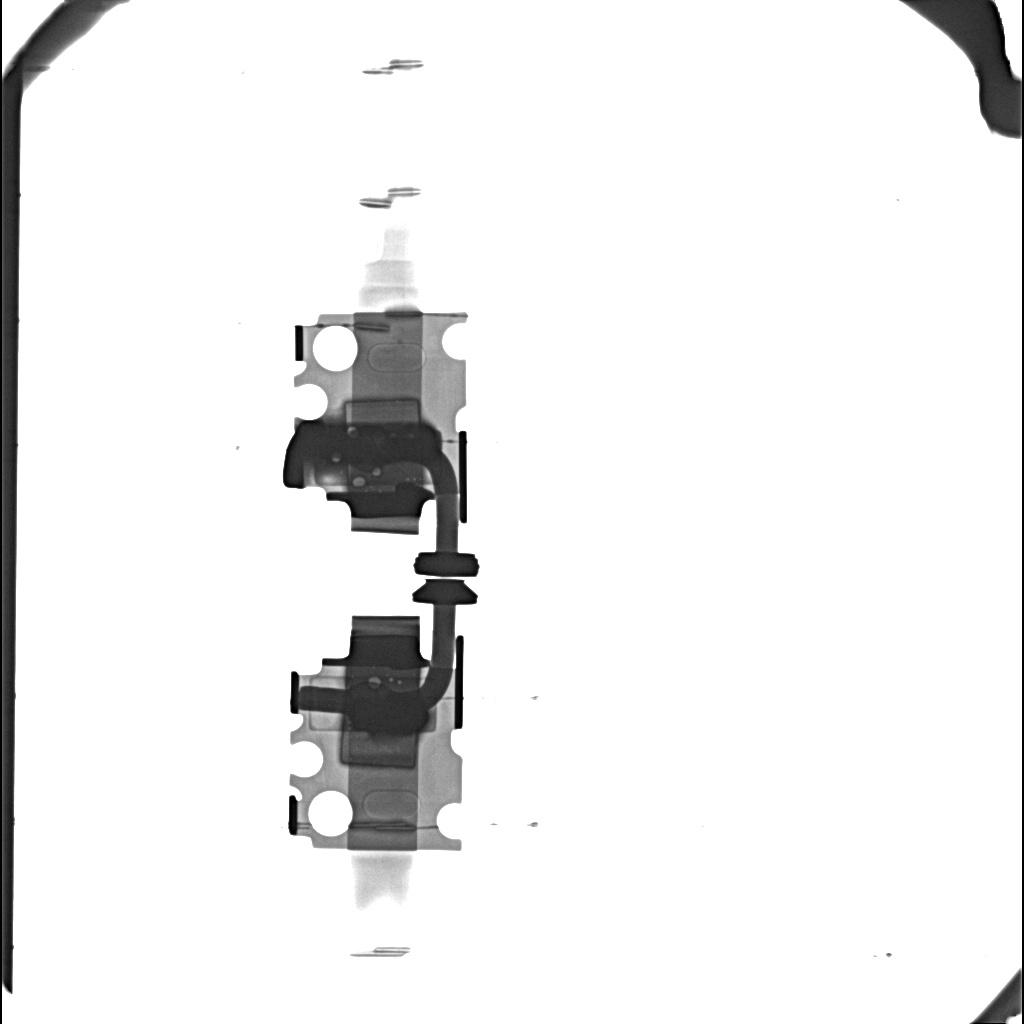气孔: (340, 730, 418, 768), (343, 398, 420, 420)
气泡: (353, 476, 365, 487), (372, 466, 381, 477), (369, 676, 380, 683)
水纹: (313, 421, 439, 465), (348, 693, 428, 732)
